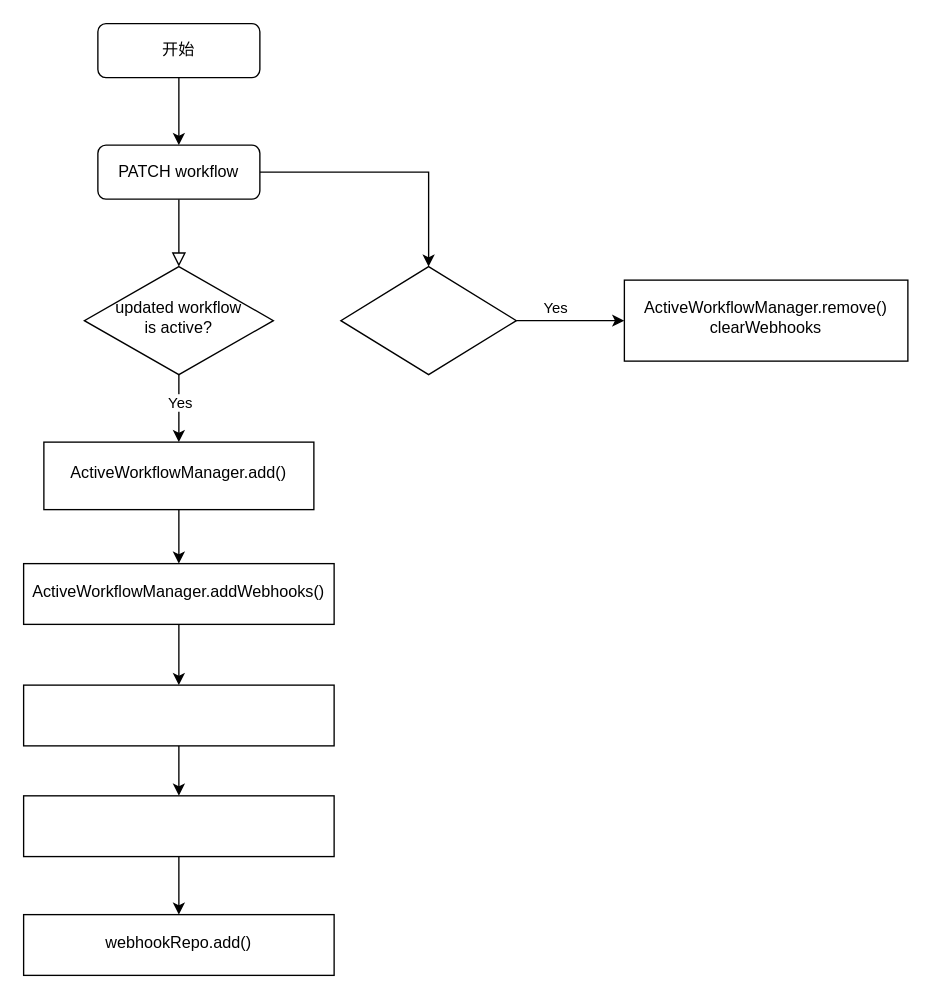
The diagram is 932 pixels wide and 999 high, and some of its shapes have lost their labels. Here are the shapes that lost their labels. From the top down, the box of each, then its label:
(340, 265, 516, 375): exists workflow is active?
(22, 684, 334, 746): NodeHelpers.getNodeWebhooks()
(22, 794, 334, 857): FormTriggerV2.description.webhooks
